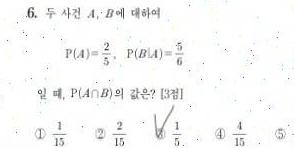choice: (152, 121, 167, 142)
not-choice: (33, 127, 47, 141), (213, 126, 226, 141), (93, 126, 106, 140), (273, 127, 287, 140)
